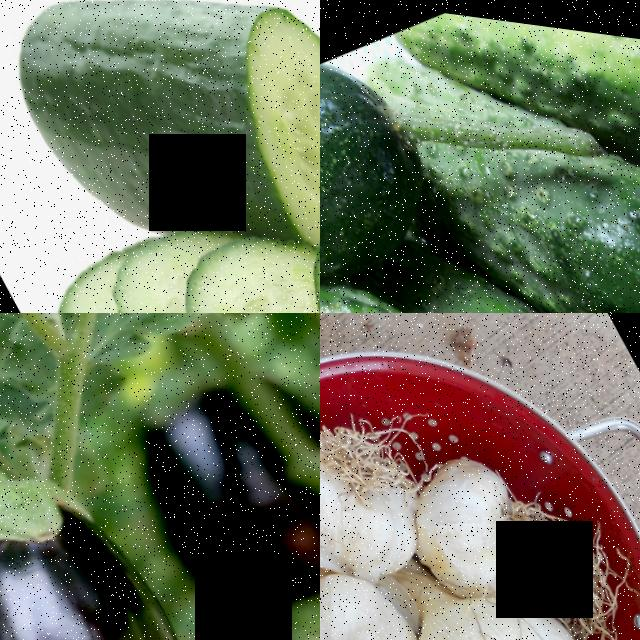cucumber: (0, 0, 320, 275), (320, 25, 464, 313), (474, 77, 640, 313), (320, 206, 590, 313)
eggplant: (0, 409, 227, 640)
garlic: (384, 424, 550, 607), (376, 537, 600, 640), (320, 401, 426, 598), (320, 535, 425, 640)
